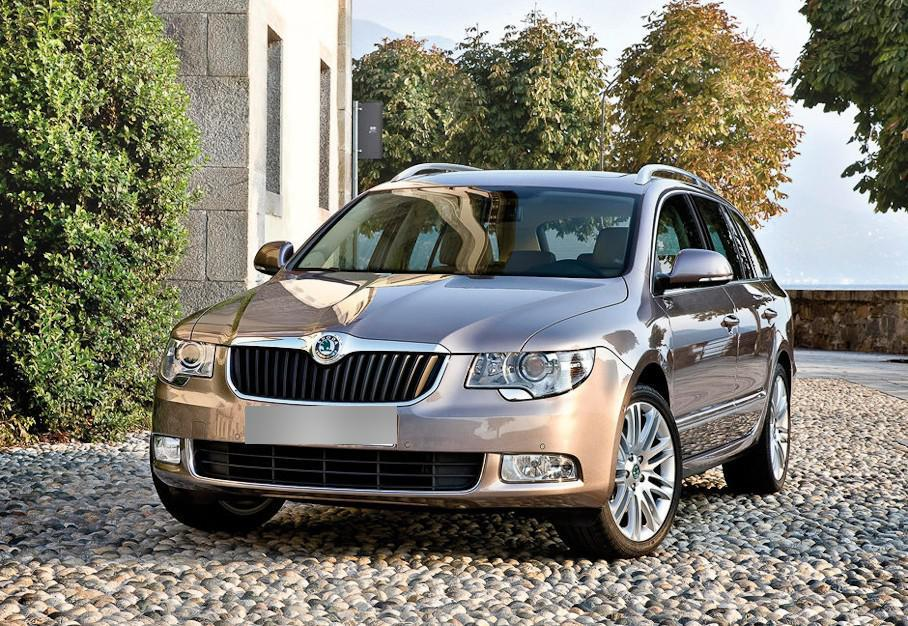Wagon: (151, 163, 795, 557)
